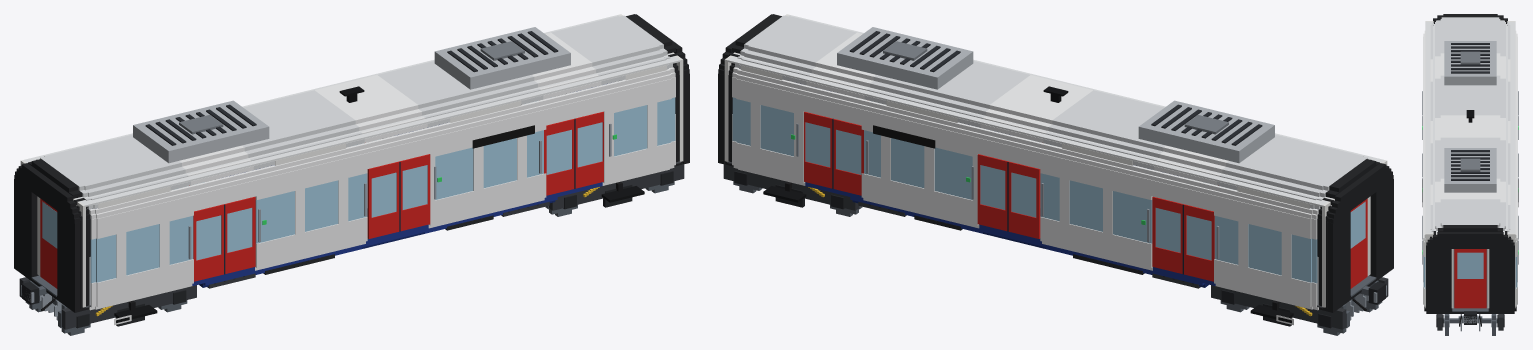
File: sstock_car.obj
3 renders of one model, left to right at view 1: azimuth 30°, elevation 25°; view 2: azimuth 150°, elevation 25°; view 3: azimuth 270°, elevation 25°, orthographic. The views are drawn at different scales.
Parts seen in each view (by area): view 1: SHELL, SHELL_roof, SHELL_diaphragm, SHELL_ceiling, EXTERNAL_DOOR_10_CG_DR2_TOGGLE_TL_-0.74_X, BOGEY_REAR, EXTERNAL_DOOR_4_CG_DR1_TOGGLE_TL_-0.74_X, EXTERNAL_DOOR_16_CG_DR3_TOGGLE_TL_-0.74_X, EXTERNAL_DOOR_5_CG_DR1_TOGGLE_TL_0.74_X, EXTERNAL_DOOR_11_CG_DR2_TOGGLE_TL_0.74_X, BOGEY_FRONT, EXTERNAL_DOOR_17_CG_DR3_TOGGLE_TL_0.74_X (+7 smaller); view 2: SHELL, SHELL_roof, SHELL_diaphragm, SHELL_ceiling, EXTERNAL_DOOR_13_CG_DL2_TOGGLE_TL_-0.74_X, BOGEY_REAR, EXTERNAL_DOOR_7_CG_DL1_TOGGLE_TL_-0.74_X, EXTERNAL_DOOR_19_CG_DL3_TOGGLE_TL_-0.74_X, EXTERNAL_DOOR_8_CG_DL1_TOGGLE_TL_0.74_X, EXTERNAL_DOOR_14_CG_DL2_TOGGLE_TL_0.74_X, BOGEY_FRONT, EXTERNAL_DOOR_20_CG_DL3_TOGGLE_TL_0.74_X (+7 smaller); view 3: SHELL, SHELL_diaphragm, SHELL_roof, SHELL_ceiling, CONNECTING_DOOR_2_CG_CF_TOGGLE_TL_0.98_Z, SHELL_end, BOGEY_FRONT_WHEEL_2, BOGEY_FRONT, SHELL_handle, FRAME, SHELL_floor, SHELL_gangway.
Part boxes in pixels (x1,y1,x2,y2): SHELL: (28, 14, 684, 311); SHELL_roof: (133, 27, 570, 163); SHELL_diaphragm: (14, 14, 689, 312); SHELL_ceiling: (23, 15, 680, 206); EXTERNAL_DOOR_10_CG_DR2_TOGGLE_TL_-0.74_X: (367, 161, 400, 238); BOGEY_REAR: (19, 277, 196, 329); EXTERNAL_DOOR_4_CG_DR1_TOGGLE_TL_-0.74_X: (193, 204, 225, 281); EXTERNAL_DOOR_16_CG_DR3_TOGGLE_TL_-0.74_X: (544, 118, 575, 195); EXTERNAL_DOOR_5_CG_DR1_TOGGLE_TL_0.74_X: (224, 196, 255, 273); EXTERNAL_DOOR_11_CG_DR2_TOGGLE_TL_0.74_X: (399, 154, 430, 231); BOGEY_FRONT: (549, 163, 684, 210); EXTERNAL_DOOR_17_CG_DR3_TOGGLE_TL_0.74_X: (575, 111, 603, 188); SHELL: (723, 14, 1379, 311); SHELL_roof: (837, 27, 1274, 163); SHELL_diaphragm: (718, 14, 1393, 312); SHELL_ceiling: (727, 15, 1384, 206); EXTERNAL_DOOR_13_CG_DL2_TOGGLE_TL_-0.74_X: (1007, 161, 1040, 238); BOGEY_REAR: (1211, 277, 1388, 329); EXTERNAL_DOOR_7_CG_DL1_TOGGLE_TL_-0.74_X: (1182, 204, 1214, 281); EXTERNAL_DOOR_19_CG_DL3_TOGGLE_TL_-0.74_X: (832, 118, 863, 195); EXTERNAL_DOOR_8_CG_DL1_TOGGLE_TL_0.74_X: (1152, 196, 1183, 273); EXTERNAL_DOOR_14_CG_DL2_TOGGLE_TL_0.74_X: (977, 154, 1008, 231); BOGEY_FRONT: (723, 163, 858, 210); EXTERNAL_DOOR_20_CG_DL3_TOGGLE_TL_0.74_X: (804, 111, 832, 188); SHELL: (1423, 14, 1517, 309); SHELL_diaphragm: (1426, 15, 1514, 313); SHELL_roof: (1444, 41, 1496, 192); SHELL_ceiling: (1425, 22, 1515, 233); CONNECTING_DOOR_2_CG_CF_TOGGLE_TL_0.98_Z: (1454, 249, 1486, 308); SHELL_end: (1425, 21, 1515, 308); BOGEY_FRONT_WHEEL_2: (1443, 314, 1497, 335); BOGEY_FRONT: (1424, 306, 1516, 330); SHELL_handle: (1422, 91, 1518, 264); FRAME: (1459, 311, 1481, 326); SHELL_floor: (1453, 249, 1487, 306); SHELL_gangway: (1452, 307, 1488, 311).
Size of the model in its own units: 16.84 by 4.04 by 2.96.
Materials: 1 (1 with a texture image).
